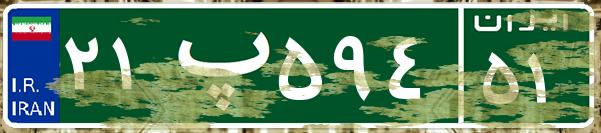1: (110, 28, 158, 105), (525, 38, 570, 115)
2: (57, 26, 110, 107)
4: (385, 28, 445, 110)
5: (273, 28, 330, 110), (475, 38, 525, 113)
9: (330, 28, 385, 110)
پ: (158, 15, 273, 115)
